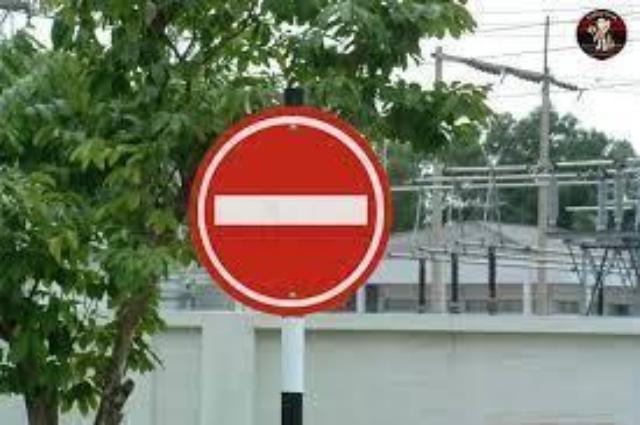B2: (182, 100, 396, 316)
